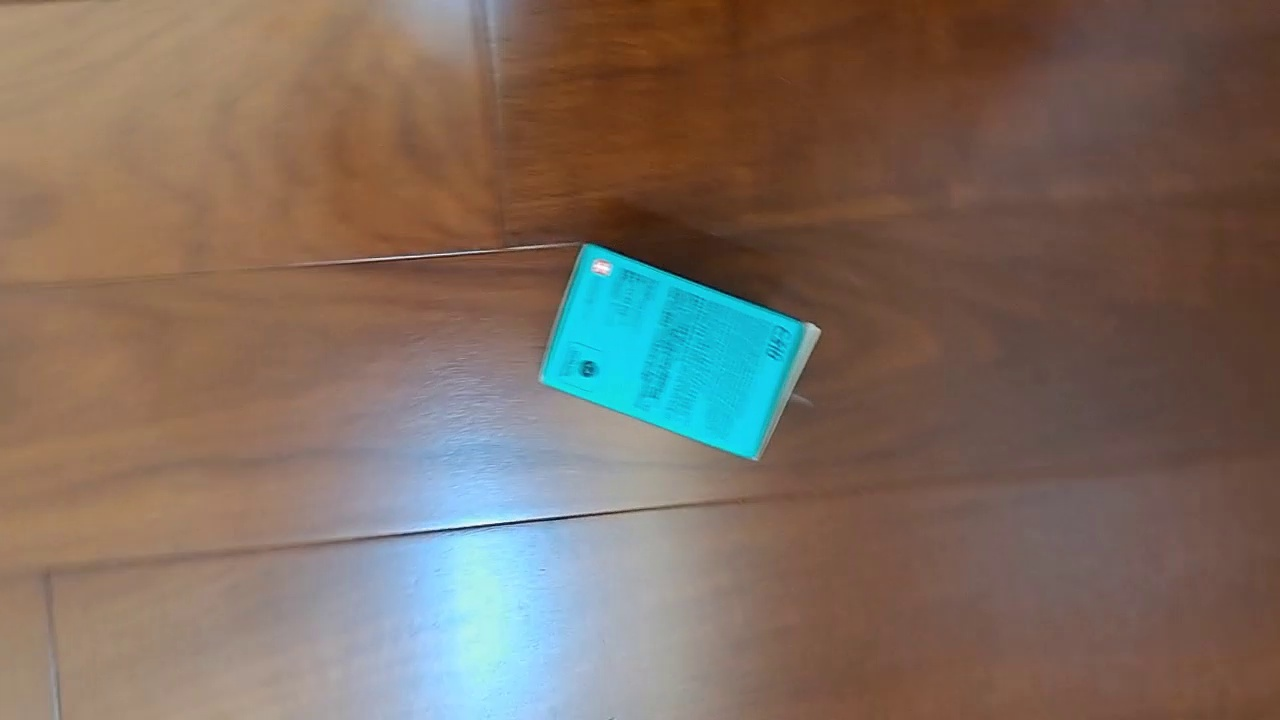webcam: (535, 238, 823, 464)
